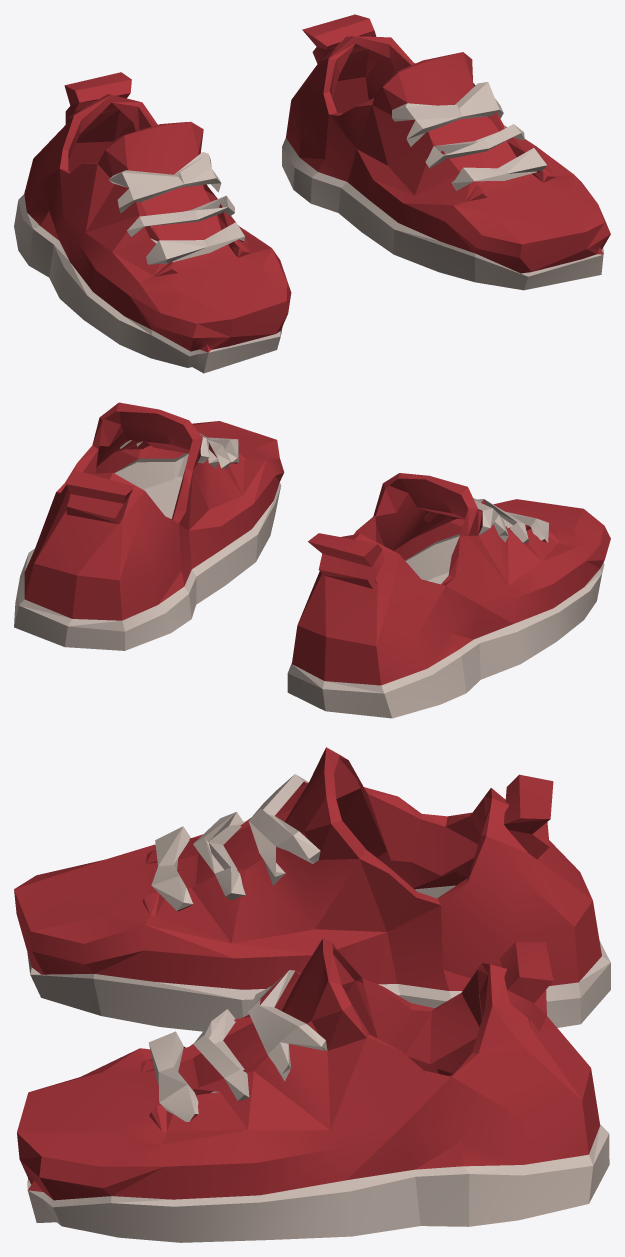
File: shoe3.fbx
3 renders of one model, top to bottom at view 1: azimuth 30°, elevation 25°; view 2: azimuth 150°, elevation 25°; view 3: azimuth 270°, elevation 25°, orthographic. The views are drawn at different scales.
Visible parts, largest first — view 1: rubber shoes; view 2: rubber shoes; view 3: rubber shoes.
Part boxes in pixels (<box>): rubber shoes: <box>14,14,610,373</box>; rubber shoes: <box>14,402,610,718</box>; rubber shoes: <box>14,747,610,1242</box>.
Bounding box in the file's own units: 148 × 47.07 × 116.
